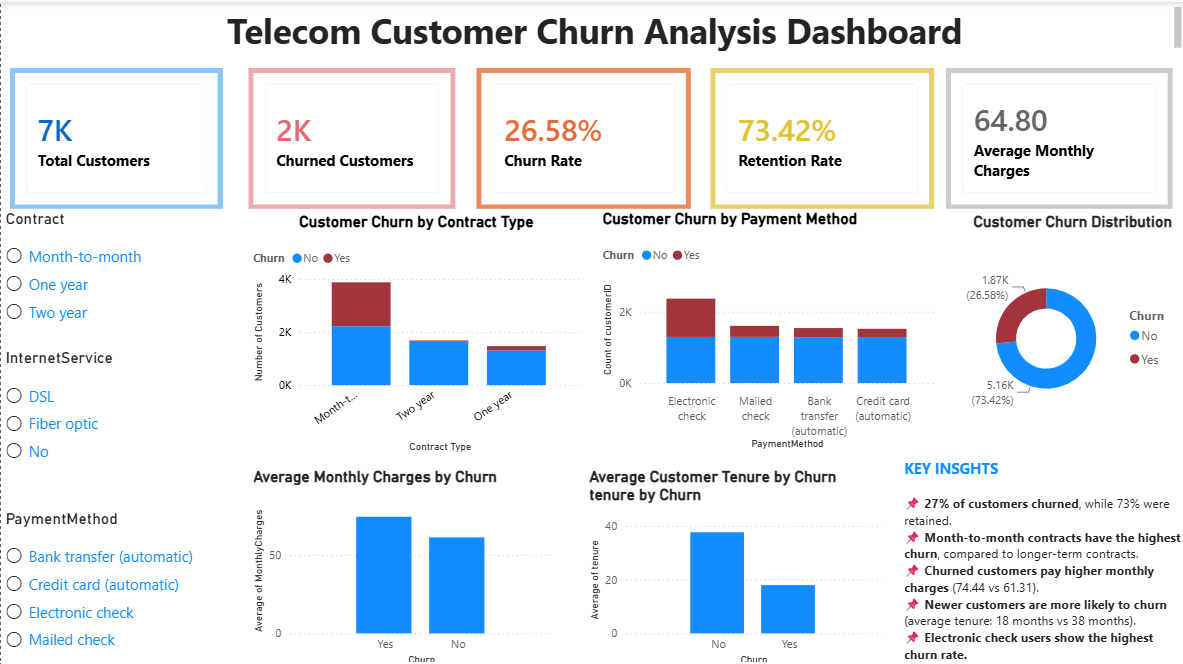

This screenshot's page, from the dashboard's own definition file:
{"tool":"powerbi","page":{"name":"Page 1","canvas":[1280,720],"ordinal":0},"visuals":[{"type":"textbox","box":[9.4,0,1269.9,56.7],"z":0},{"type":"cardVisual","fields":{"Data":["Telco_Customer_Churn_Cleaned csv (3).Total Customers"]},"box":[9.7,71.2,229.9,152.2],"z":1000},{"type":"cardVisual","fields":{"Data":["Telco_Customer_Churn_Cleaned csv (3).Average Monthly Charges"]},"box":[1020.1,71.2,244.5,152.2],"z":2000},{"type":"cardVisual","fields":{"Data":["Telco_Customer_Churn_Cleaned csv (3).Retention Rate"]},"box":[765.9,71.2,241.3,152.2],"z":3000},{"type":"cardVisual","fields":{"Data":["Telco_Customer_Churn_Cleaned csv (3).Churned Customers"]},"box":[267.2,71.2,223.5,152.2],"z":4000},{"type":"cardVisual","fields":{"Data":["Telco_Customer_Churn_Cleaned csv (3).Churn Rate"]},"box":[513.3,71.2,231.5,152.2],"z":5000},{"type":"columnChart","title":"Customer Churn by Contract Type","fields":{"Y":["CountNonNull(Telco_Customer_Churn_Cleaned csv (3).customerID)"],"Series":["Telco_Customer_Churn_Cleaned csv (3).Churn"],"Category":["Telco_Customer_Churn_Cleaned csv (3).Contract"]},"box":[267.2,226.7,362.7,263.9],"z":6000},{"type":"donutChart","title":"Customer Churn Distribution","fields":{"Category":["Telco_Customer_Churn_Cleaned csv (3).Churn"],"Y":["CountNonNull(Telco_Customer_Churn_Cleaned csv (3).customerID)"]},"box":[1033.1,226.7,247.7,242.9],"z":7000},{"type":"columnChart","title":"Customer Churn by Payment Method","fields":{"Category":["Telco_Customer_Churn_Cleaned csv (3).PaymentMethod"],"Series":["Telco_Customer_Churn_Cleaned csv (3).Churn"],"Y":["CountNonNull(Telco_Customer_Churn_Cleaned csv (3).customerID)"]},"box":[644.5,223.5,367.6,263.9],"z":8000},{"type":"clusteredColumnChart","title":"Average Monthly Charges by Churn","fields":{"Category":["Telco_Customer_Churn_Cleaned csv (3).Churn"],"Y":["Avg(Telco_Customer_Churn_Cleaned csv (3).MonthlyCharges)"]},"box":[267.2,502,333.6,218.6],"z":9000},{"type":"clusteredColumnChart","title":"Average Customer Tenure by Churn  tenure by Churn","fields":{"Category":["Telco_Customer_Churn_Cleaned csv (3).Churn"],"Y":["Avg(Telco_Customer_Churn_Cleaned csv (3).tenure)"]},"box":[629.9,502,325.5,218.6],"z":10000},{"type":"listSlicer","fields":{"Values":["Telco_Customer_Churn_Cleaned csv (3).Contract"]},"box":[0,223.5,229.9,132.8],"z":11000},{"type":"listSlicer","fields":{"Values":["Telco_Customer_Churn_Cleaned csv (3).InternetService"]},"box":[0,374,230,150],"z":12000},{"type":"listSlicer","fields":{"Values":["Telco_Customer_Churn_Cleaned csv (3).PaymentMethod"]},"box":[0,547.3,239.6,173.3],"z":13000},{"type":"textbox","box":[969.9,487.4,310.9,233.2],"z":14000}]}

Visuals, with their boxes in screenshot pixels (x1, y1, x2, y2), scaled from the page's 1280x720 canvas onto the 1183x664 screenshot:
textbox: pyautogui.locateOnScreen(9, 0, 1182, 52)
cardVisual - Telco_Customer_Churn_Cleaned csv (3).Total Customers: pyautogui.locateOnScreen(9, 66, 221, 206)
cardVisual - Telco_Customer_Churn_Cleaned csv (3).Average Monthly Charges: pyautogui.locateOnScreen(943, 66, 1169, 206)
cardVisual - Telco_Customer_Churn_Cleaned csv (3).Retention Rate: pyautogui.locateOnScreen(708, 66, 931, 206)
cardVisual - Telco_Customer_Churn_Cleaned csv (3).Churned Customers: pyautogui.locateOnScreen(247, 66, 454, 206)
cardVisual - Telco_Customer_Churn_Cleaned csv (3).Churn Rate: pyautogui.locateOnScreen(474, 66, 688, 206)
"Customer Churn by Contract Type" columnChart: pyautogui.locateOnScreen(247, 209, 582, 452)
"Customer Churn Distribution" donutChart: pyautogui.locateOnScreen(955, 209, 1182, 433)
"Customer Churn by Payment Method" columnChart: pyautogui.locateOnScreen(596, 206, 935, 449)
"Average Monthly Charges by Churn" clusteredColumnChart: pyautogui.locateOnScreen(247, 463, 555, 663)
"Average Customer Tenure by Churn  tenure by Churn" clusteredColumnChart: pyautogui.locateOnScreen(582, 463, 883, 663)
listSlicer - Telco_Customer_Churn_Cleaned csv (3).Contract: pyautogui.locateOnScreen(0, 206, 212, 329)
listSlicer - Telco_Customer_Churn_Cleaned csv (3).InternetService: pyautogui.locateOnScreen(0, 345, 213, 483)
listSlicer - Telco_Customer_Churn_Cleaned csv (3).PaymentMethod: pyautogui.locateOnScreen(0, 505, 221, 663)
textbox: pyautogui.locateOnScreen(896, 449, 1182, 663)
